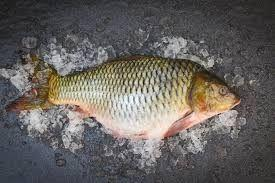Grass Carp: (5, 48, 241, 145)
